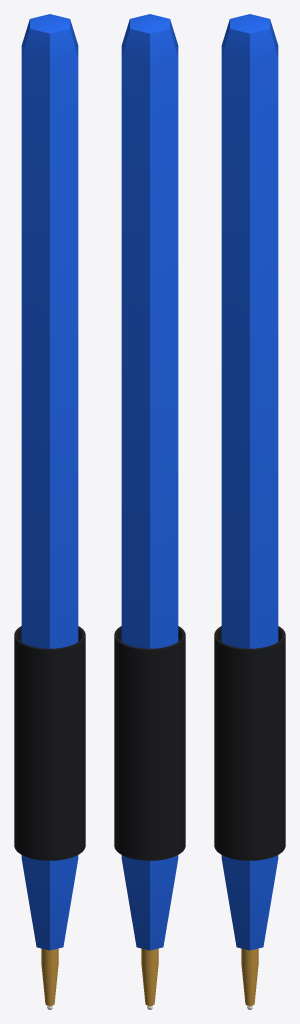
3 views of the same model, side by side, from view 1: azimuth 90°, elevation 25°; view 2: azimuth 150°, elevation 25°; view 3: azimuth 270°, elevation 25° (orthographic).
Parts seen in each view (by area): view 1: govde__m0, govde__m1, uc-yuvasi__m0; view 2: govde__m0, govde__m1, uc-yuvasi__m0; view 3: govde__m0, govde__m1, uc-yuvasi__m0.
Boxes of the visible parts, x1,y1,x2,y2 form: govde__m0: (21,14,78,950); govde__m1: (14,626,85,860); uc-yuvasi__m0: (41,948,58,1006); govde__m0: (121,14,178,950); govde__m1: (114,626,185,860); uc-yuvasi__m0: (141,948,158,1006); govde__m0: (221,14,278,950); govde__m1: (214,626,285,860); uc-yuvasi__m0: (241,948,258,1006).
Size of the model in its own units: 0.92 by 14.09 by 0.92.
